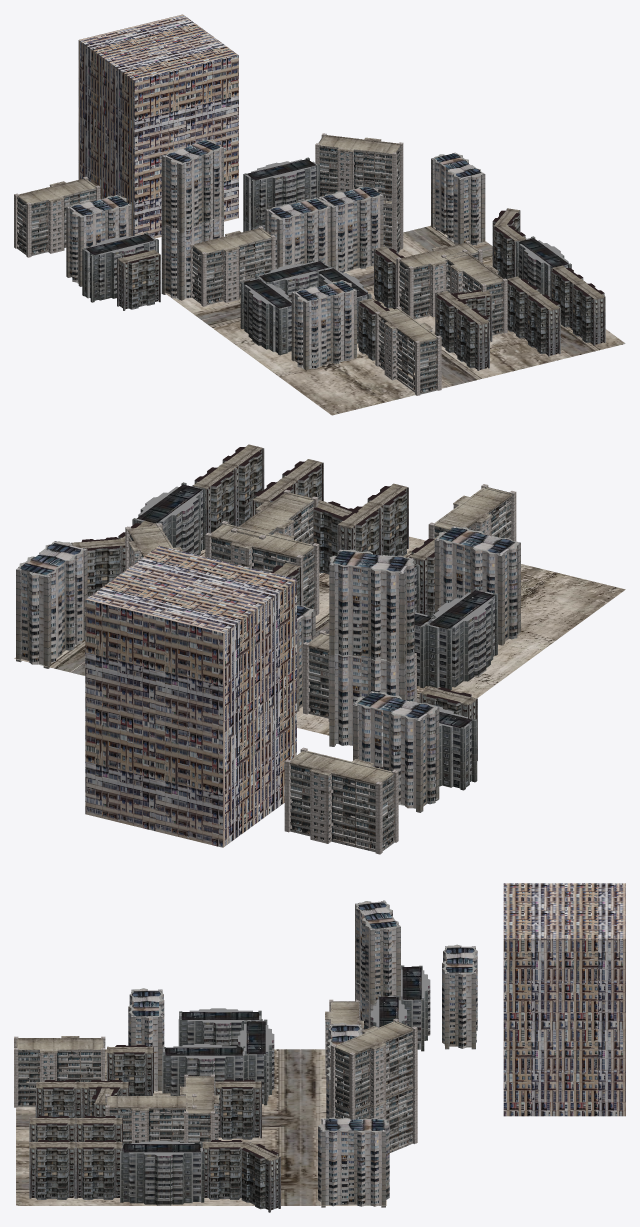
Rendered from buildings8.4.glb.
The picture shows the model from 3 angles, top to bottom: view 1: azimuth 30°, elevation 25°; view 2: azimuth 150°, elevation 25°; view 3: azimuth 270°, elevation 25°; orthographic projection. The views are drawn at different scales.
Visible parts, largest first — view 1: Plane.015, Plane.002, Plane.008, Plane.014, Cube.001, Cube.019, Cube.002, Plane.012, Cube.004, Plane.004, Plane.003, Plane.011 (+21 smaller); view 2: Plane.015, Cube.004, Plane.002, Plane.014, Plane.012, Plane, Plane.008, Plane.007, Plane.013, Cube.011, Plane.006, Cube.002 (+16 smaller); view 3: Plane.015, Plane.002, Plane.012, Cube.019, Plane.006, Cube.002, Plane.014, Plane, Cube.012, Plane.005, Cube.010, Cube.003 (+18 smaller).
Boxes of the visible parts, box(x1,y1,x2,y2) form: Plane.015: box(78, 14, 238, 238); Plane.002: box(165, 225, 625, 415); Plane.008: box(291, 280, 356, 370); Plane.014: box(161, 139, 223, 234); Cube.001: box(190, 226, 275, 306); Cube.019: box(315, 133, 403, 207); Cube.002: box(375, 306, 441, 395); Plane.012: box(431, 152, 485, 245); Cube.004: box(14, 176, 100, 257); Plane.004: box(318, 186, 383, 272); Plane.003: box(265, 197, 330, 268); Plane.011: box(243, 157, 319, 227); Plane.015: box(85, 545, 296, 847); Cube.004: box(284, 747, 398, 854); Plane.002: box(14, 536, 625, 735); Plane.014: box(329, 549, 414, 664); Plane.012: box(16, 541, 87, 668); Plane: box(353, 691, 439, 812); Plane.008: box(434, 526, 520, 645); Plane.007: box(424, 588, 497, 690); Plane.013: box(329, 649, 414, 746); Cube.011: box(205, 521, 319, 615); Plane.006: box(132, 482, 205, 555); Cube.002: box(428, 484, 516, 541); Plane.015: box(503, 883, 625, 1116); Plane.002: box(16, 1049, 386, 1205); Plane.012: box(318, 1117, 389, 1207); Cube.019: box(330, 1018, 417, 1112); Plane.006: box(120, 1140, 204, 1205); Cube.002: box(14, 1036, 105, 1107); Plane.014: box(355, 900, 400, 1005); Plane: box(442, 944, 477, 1049); Cube.012: box(105, 1093, 196, 1143); Plane.005: box(162, 1044, 246, 1095); Cube.010: box(29, 1140, 76, 1199); Cube.003: box(214, 1079, 261, 1139).
Size of the model in its own units: 18.08 by 7.78 by 23.71.
9 materials, 9 textured.
